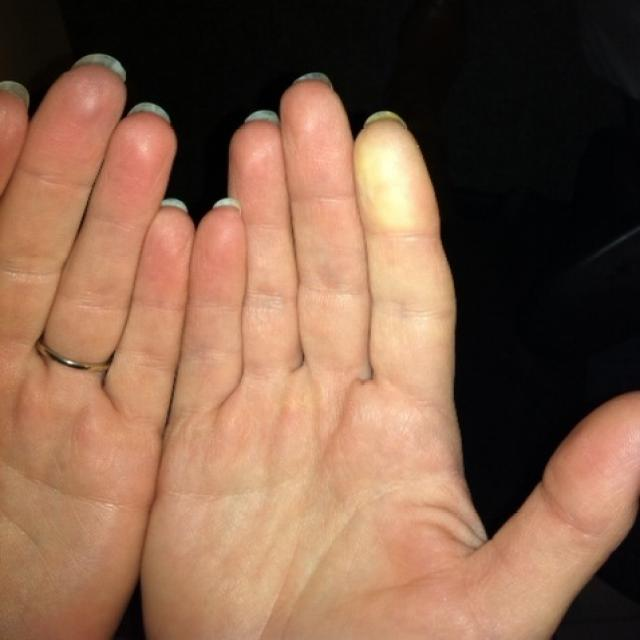raynauds: (343, 101, 450, 240)
